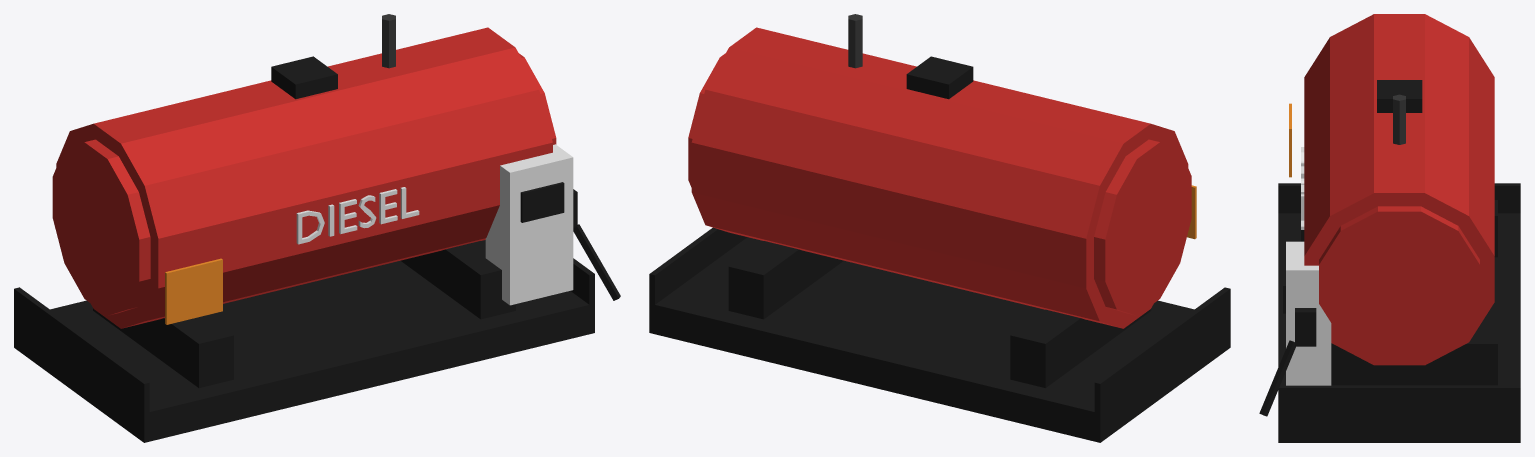
File: Mining_FuelTank.fbx
The picture shows the model from 3 angles, left to right: view 1: azimuth 30°, elevation 25°; view 2: azimuth 150°, elevation 25°; view 3: azimuth 270°, elevation 25°; orthographic projection. The views are drawn at different scales.
Visible parts, largest first — view 1: Mining_FuelTank; view 2: Mining_FuelTank; view 3: Mining_FuelTank.
Boxes of the visible parts, x1,y1,x2,y2 form: Mining_FuelTank: (14,14,620,442); Mining_FuelTank: (649,14,1230,442); Mining_FuelTank: (1259,14,1520,442).
Bounding box in the file's own units: 3.33 × 2.05 × 1.73.
